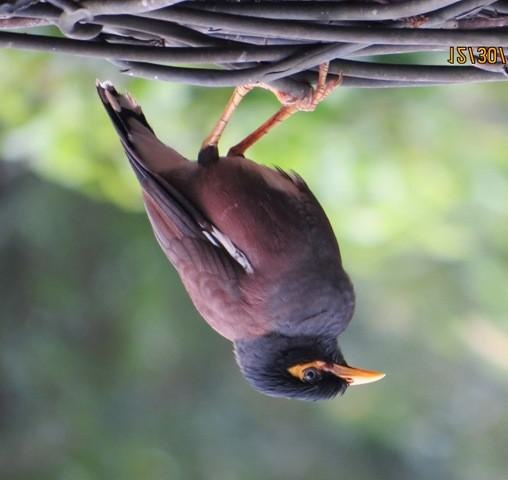myna: (98, 82, 427, 444)
